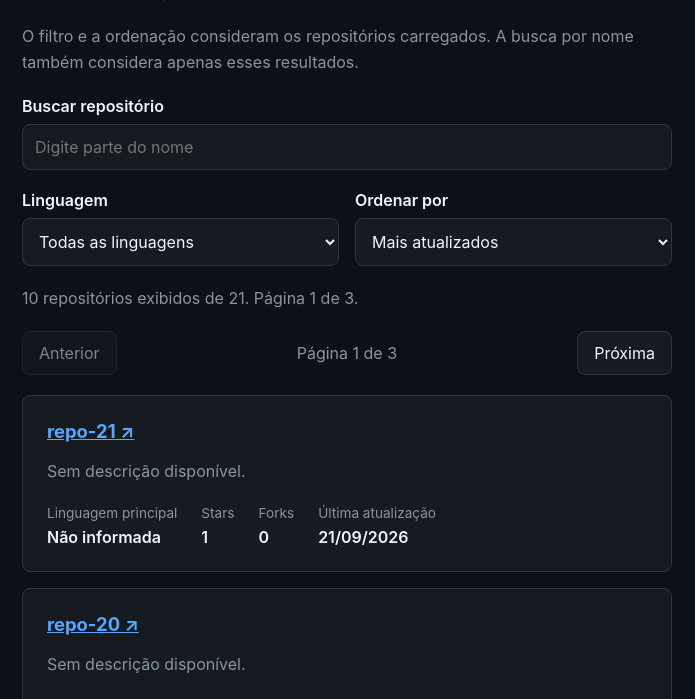
Test: pagina sem repetir consultas e respeita os limites e o singular
(page scrolled)
Expected: the list item that starts with "repo-21" is shown, [47,420,134,442]
Expected: the button "Anterior" is disabled, [22,331,117,375]
Click the button "Próxima" at point(625, 353), box [577,331,672,375]
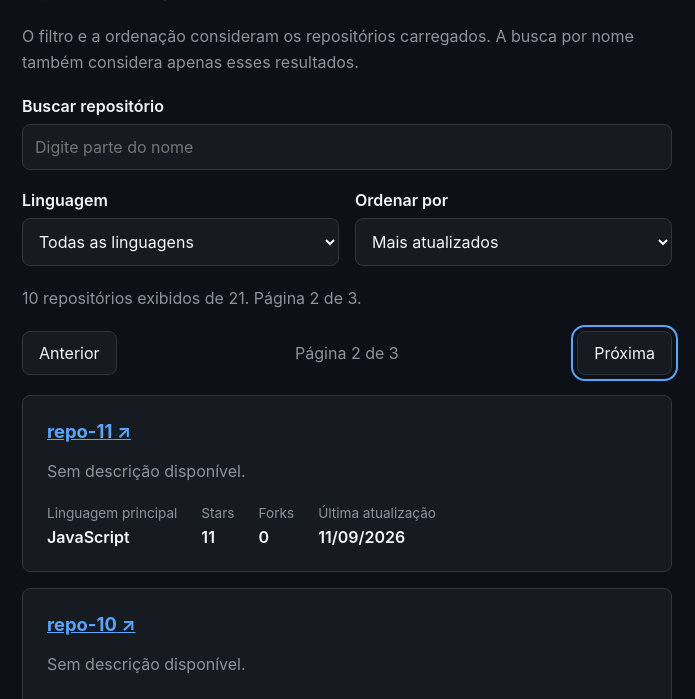
Expected: the navigation bar named "Paginação dos repositórios" shows "Página 2 de 3", [22,331,672,375]
Expected: the list item that starts with "repo-11" is shown, [47,420,131,442]
Click the button "Próxima" at point(625, 353), box [577,331,672,375]
(page scrolled)
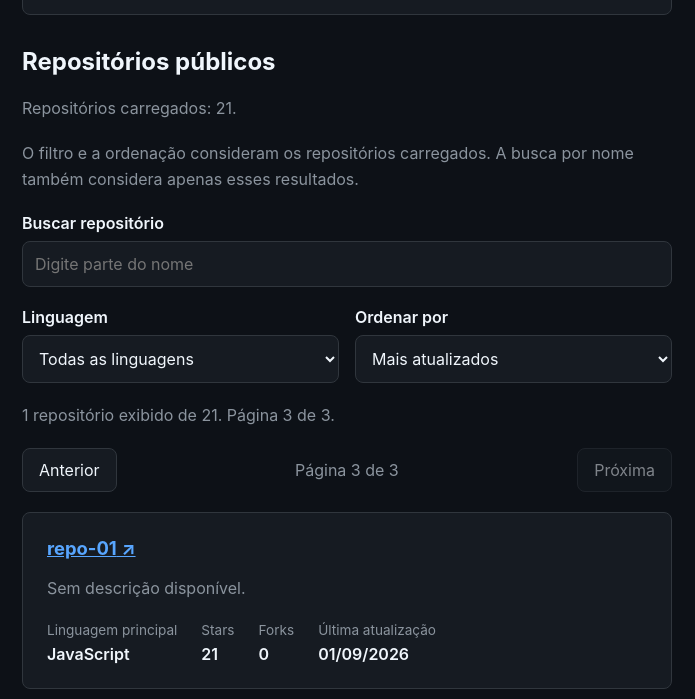
Expected: the number of list items is 1, [22,512,672,689]
Expected: the button "Próxima" is disabled, [577,448,672,492]
Expected: the text "1 repositório exibido de 21. Página 3 de 3." is shown, [22,405,335,425]
Click the button "Anterior" at point(69, 470), box [22,448,117,492]
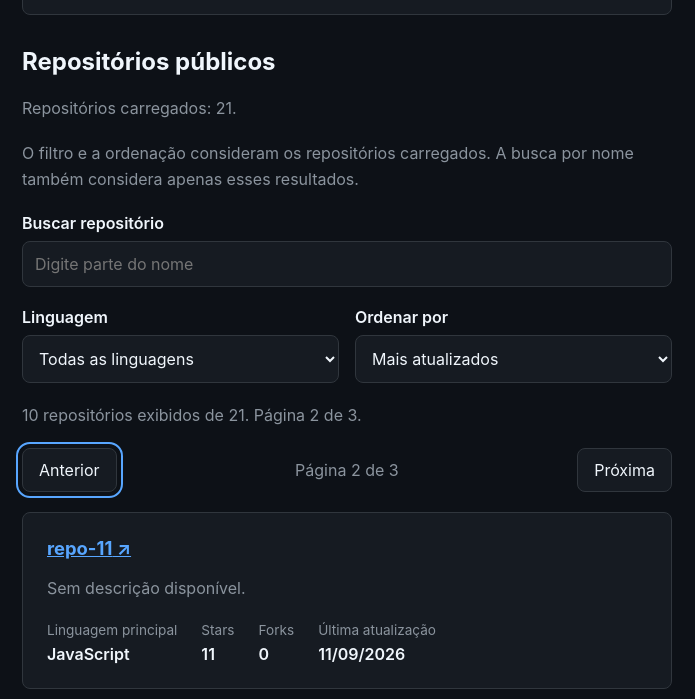
Expected: the navigation bar named "Paginação dos repositórios" shows "Página 2 de 3", [22,448,672,492]
